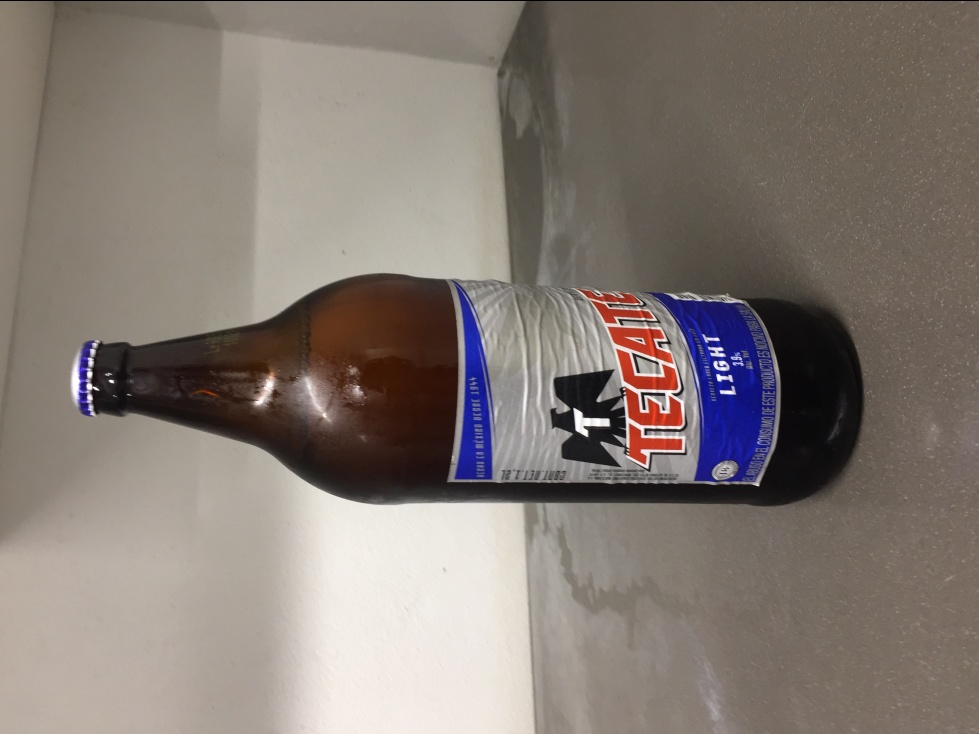tecateC: (76, 274, 864, 501)
